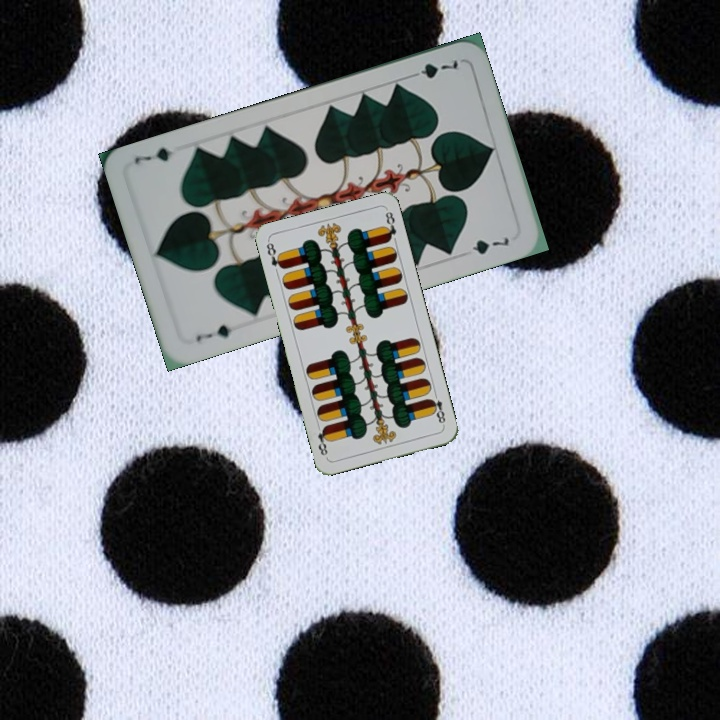E8: (426, 389, 448, 429), (262, 238, 286, 271)
G7: (404, 53, 461, 81), (192, 320, 235, 345)
